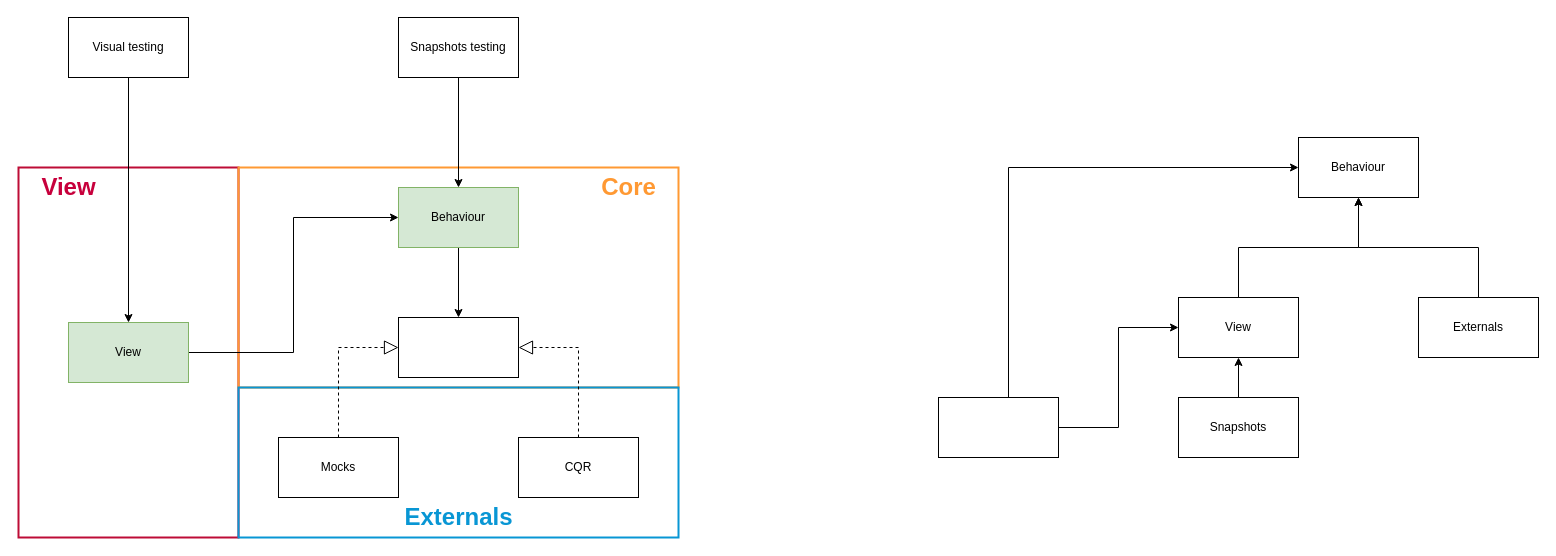
Image size: 1556x556. Some labels were removed from this diagram. The shapes that lost their labels are listed below. From the top down, each one's centre as x and y in pixels, then its label:
the point at 458,347: «interface» IRepository
the point at 998,427: Visuals
